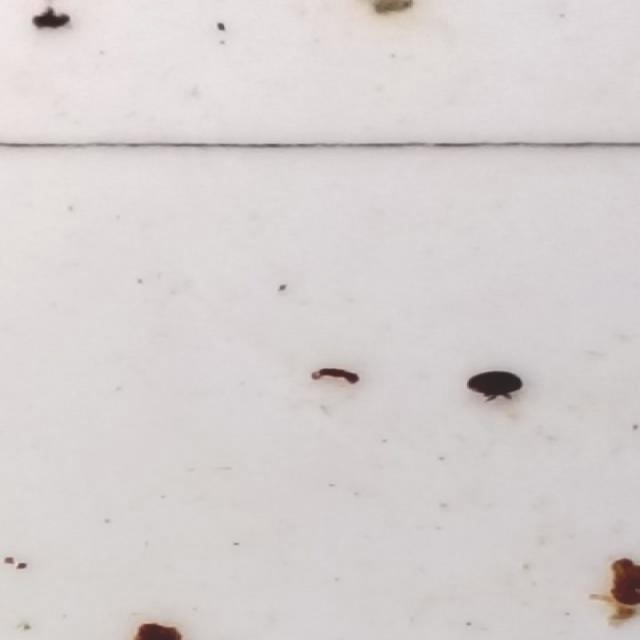varroa: (463, 372, 526, 400)
